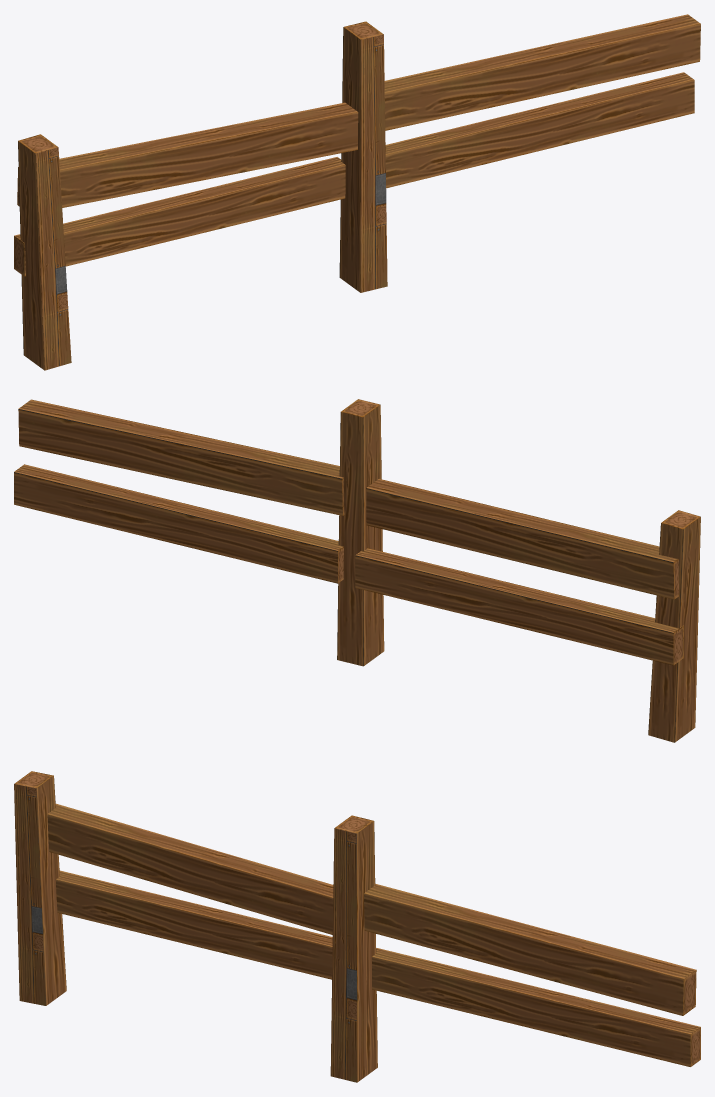
3 views of the same model, one above another, from view 1: azimuth 30°, elevation 25°; view 2: azimuth 150°, elevation 25°; view 3: azimuth 330°, elevation 25° (orthographic).
Parts seen in each view (by area): view 1: Cube.1072; view 2: Cube.1072; view 3: Cube.1072.
Part boxes in pixels (box(x1,y1,x2,y2)): Cube.1072: box(14, 14, 700, 370); Cube.1072: box(14, 399, 700, 742); Cube.1072: box(14, 771, 700, 1082).
Size of the model in its own units: 407 by 146 by 27.65.
1 material, 1 textured.
